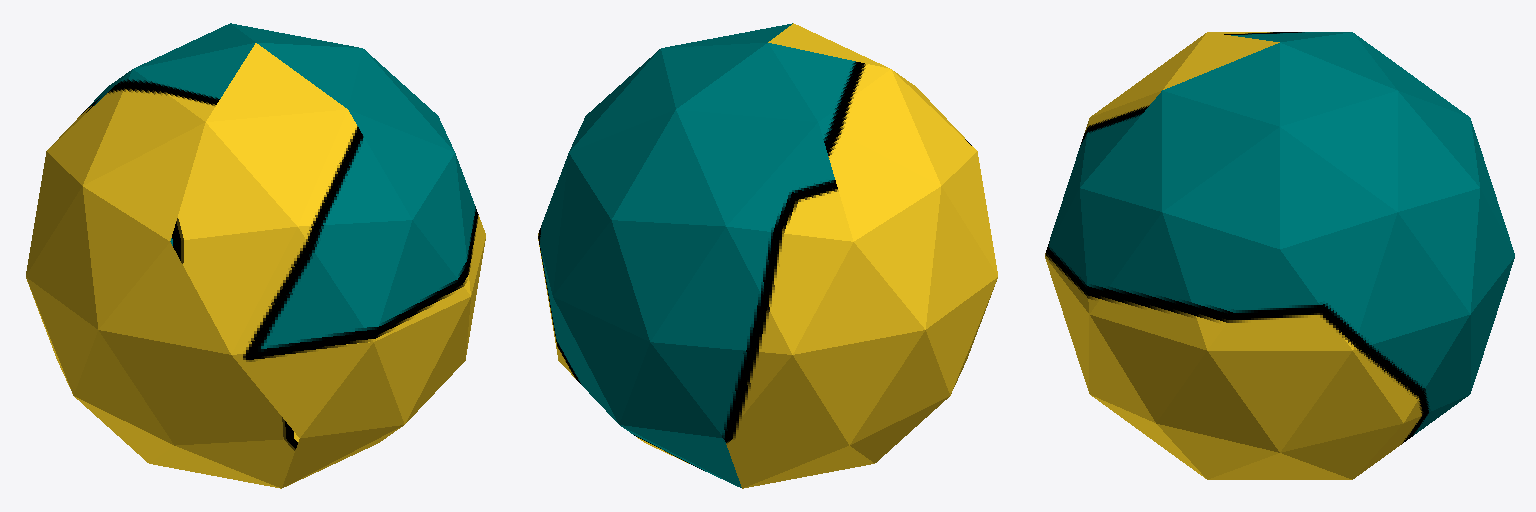
The picture shows the model from 3 angles: view 1: azimuth 30°, elevation 25°; view 2: azimuth 150°, elevation 25°; view 3: azimuth 270°, elevation 25°; orthographic projection.
Visible parts, largest first — view 1: Icosphere; view 2: Icosphere; view 3: Icosphere.
Boxes of the visible parts, box(x1,y1,x2,y2) form: Icosphere: box(26, 23, 485, 488); Icosphere: box(538, 23, 997, 488); Icosphere: box(1045, 32, 1514, 479).
Bounding box in the file's own units: 1.9 × 2 × 2.
Materials: 1 (1 with a texture image).